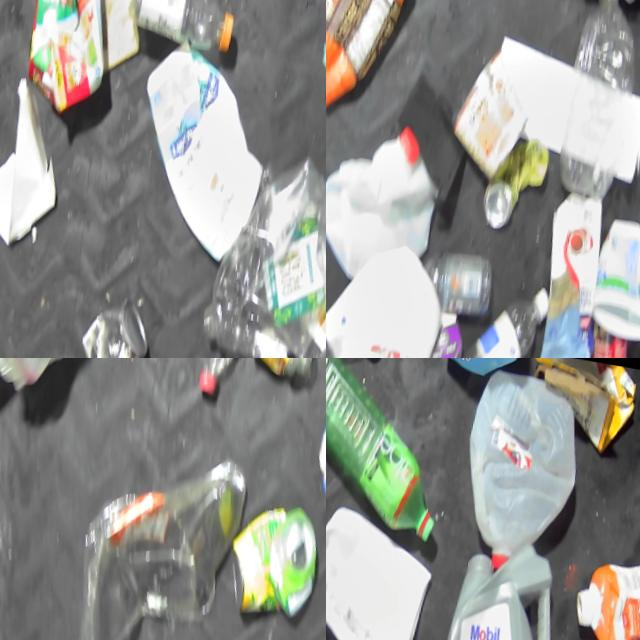can: (218, 488, 320, 632), (68, 283, 158, 358)
milk_jug: (127, 34, 275, 261), (452, 358, 588, 579), (326, 99, 453, 286)
non_white_jug: (326, 0, 413, 128), (20, 0, 121, 109)
plastic_bottle: (189, 149, 326, 358), (456, 261, 548, 358), (124, 0, 238, 58), (181, 358, 258, 397)
